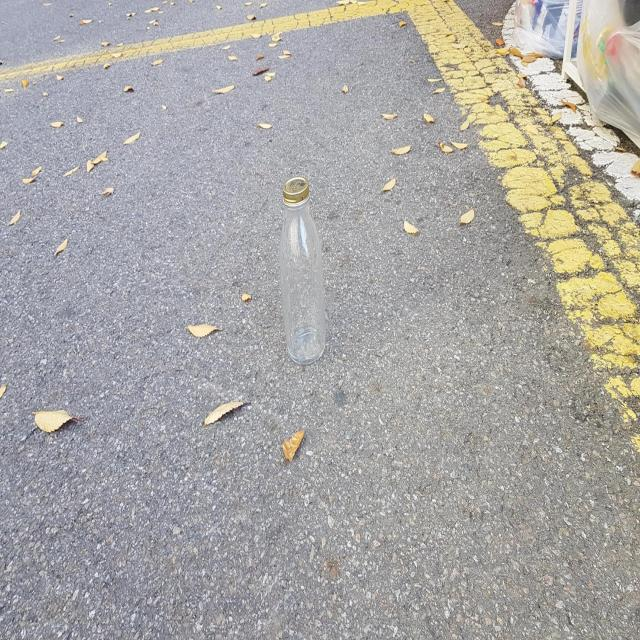glass: (280, 174, 326, 364)
